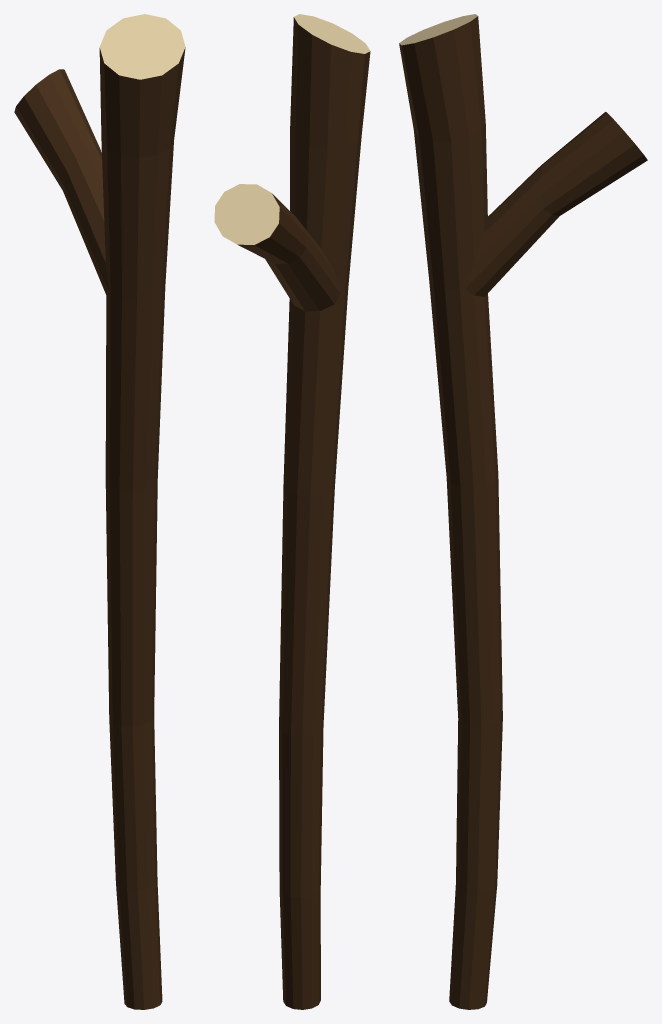
The picture shows the model from 3 angles, left to right: view 1: azimuth 30°, elevation 25°; view 2: azimuth 150°, elevation 25°; view 3: azimuth 270°, elevation 25°; orthographic projection.
Parts seen in each view (by area): view 1: Sword1; view 2: Sword1; view 3: Sword1.
Part boxes in pixels (x1=…): Sword1: x1=14, y1=14, x2=185, y2=1009; Sword1: x1=214, y1=14, x2=370, y2=1009; Sword1: x1=399, y1=14, x2=647, y2=1009.
Size of the model in its own units: 9.26 by 27.82 by 121.
1 material, 1 textured.
